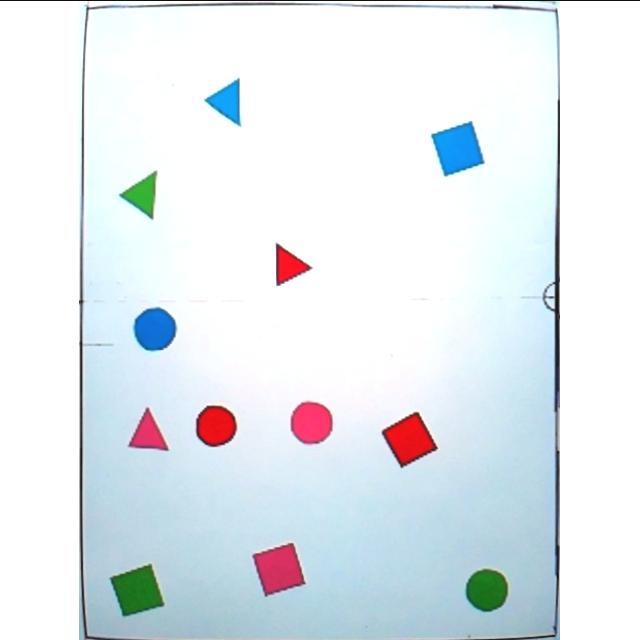blueCircle: (133, 304, 179, 352)
blueSquare: (431, 119, 489, 181)
blueTriangle: (204, 77, 246, 129)
greenCircle: (466, 566, 512, 612)
greenSquare: (110, 562, 168, 616)
greenTriangle: (118, 167, 162, 221)
pinkCircle: (290, 396, 334, 446)
pinkSquare: (252, 542, 308, 596)
pinkTriangle: (128, 404, 172, 452)
redCircle: (192, 402, 240, 448)
redSquare: (380, 408, 440, 469)
redTriangle: (270, 240, 316, 288)
